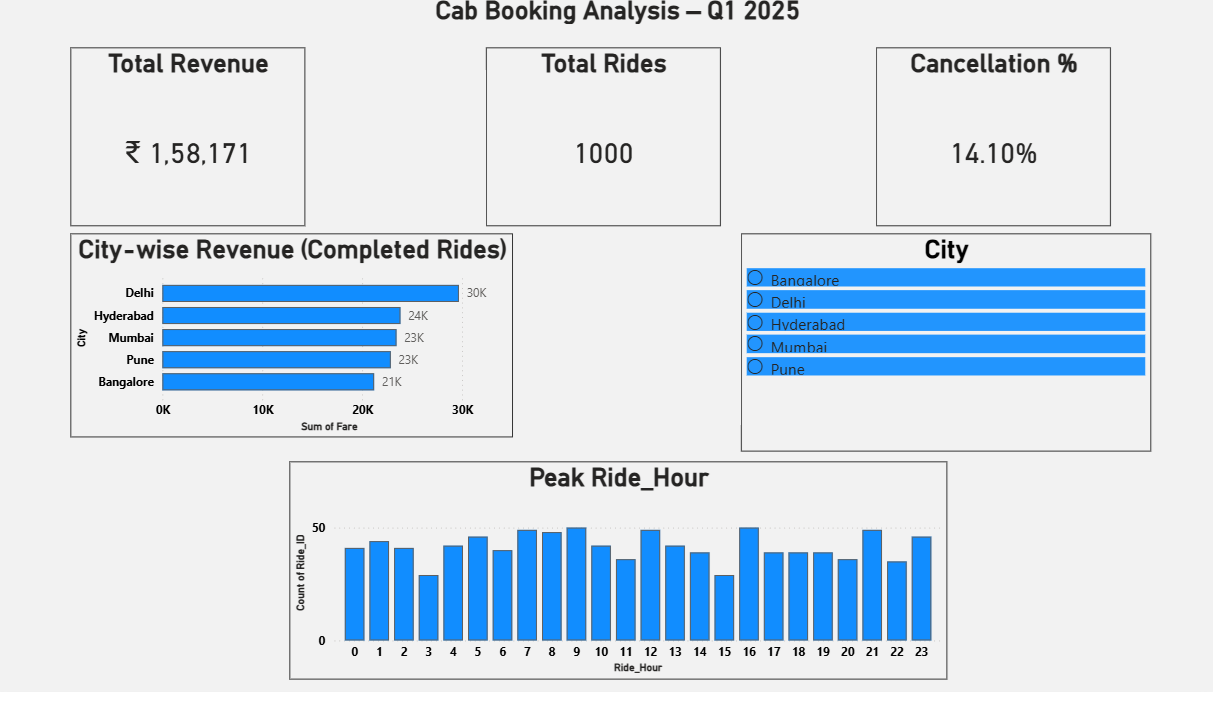

The dashboard page shown, as its layout file describes it:
{"tool":"powerbi","page":{"name":"Cab Booking Analysis Dashboard","canvas":[1280,720],"ordinal":0},"visuals":[{"type":"card","title":"Total Revenue","fields":{"Values":["Sum(cab_analysis cab_data.Fare)"]},"box":[89,55,242.8,184.6],"z":0},{"type":"card","title":"Total Rides","fields":{"Values":["CountNonNull(cab_analysis cab_data.Ride_ID)"]},"box":[518,55,242.8,184.6],"z":1000},{"type":"card","title":"Cancellation %","fields":{"Values":["cab_analysis cab_data.Cancellation %"]},"box":[921.1,55,242.8,184.6],"z":2000},{"type":"clusteredBarChart","title":"City-wise Revenue (Completed Rides)","fields":{"Category":["cab_analysis cab_data.City"],"Y":["Sum(cab_analysis cab_data.Fare)"],"Series":["cab_analysis cab_data.Ride_Status"]},"box":[89,246.1,456.5,225],"z":3000},{"type":"clusteredColumnChart","title":"Peak Ride_Hour","fields":{"Y":["CountNonNull(cab_analysis cab_data.Ride_ID)"],"Category":["cab_analysis cab_data.Ride_Hour"]},"box":[314.1,482.4,679.9,225],"z":4000},{"type":"listSlicer","fields":{"Values":["cab_analysis cab_data.City"]},"box":[781.9,246.1,424.1,225],"z":5000},{"type":"textbox","title":"Cab Booking Analysis – Q1 2025","box":[433.9,0,440.3,35.6],"z":5001}]}

Visuals, with their boxes in screenshot pixels (x1, y1, x2, y2), scaled from the page's 1280x720 canvas onto the 1217x703 screenshot:
"Total Revenue" card: (x1=85, y1=54, x2=315, y2=234)
"Total Rides" card: (x1=493, y1=54, x2=723, y2=234)
"Cancellation %" card: (x1=876, y1=54, x2=1107, y2=234)
"City-wise Revenue (Completed Rides)" clusteredBarChart: (x1=85, y1=240, x2=519, y2=460)
"Peak Ride_Hour" clusteredColumnChart: (x1=299, y1=471, x2=945, y2=691)
listSlicer - cab_analysis cab_data.City: (x1=743, y1=240, x2=1147, y2=460)
"Cab Booking Analysis – Q1 2025" textbox: (x1=413, y1=0, x2=831, y2=35)
